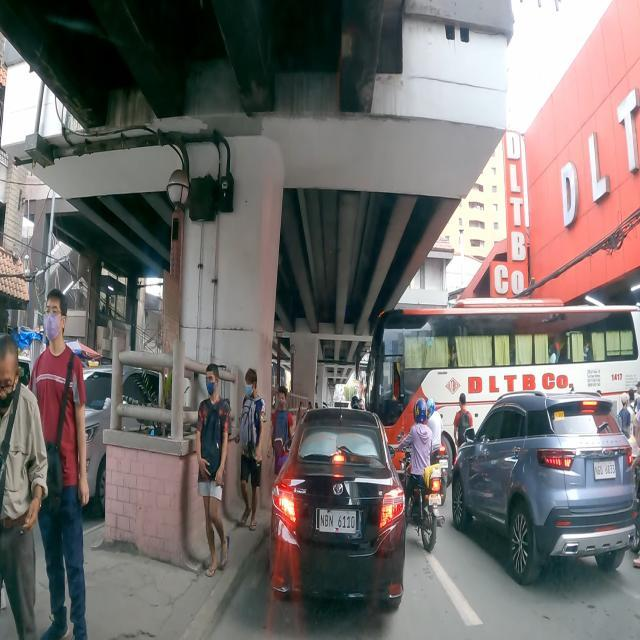bus: (362, 295, 640, 488)
car: (452, 390, 634, 585), (270, 408, 406, 611)
motorcycle: (392, 396, 441, 556), (424, 397, 448, 507)
